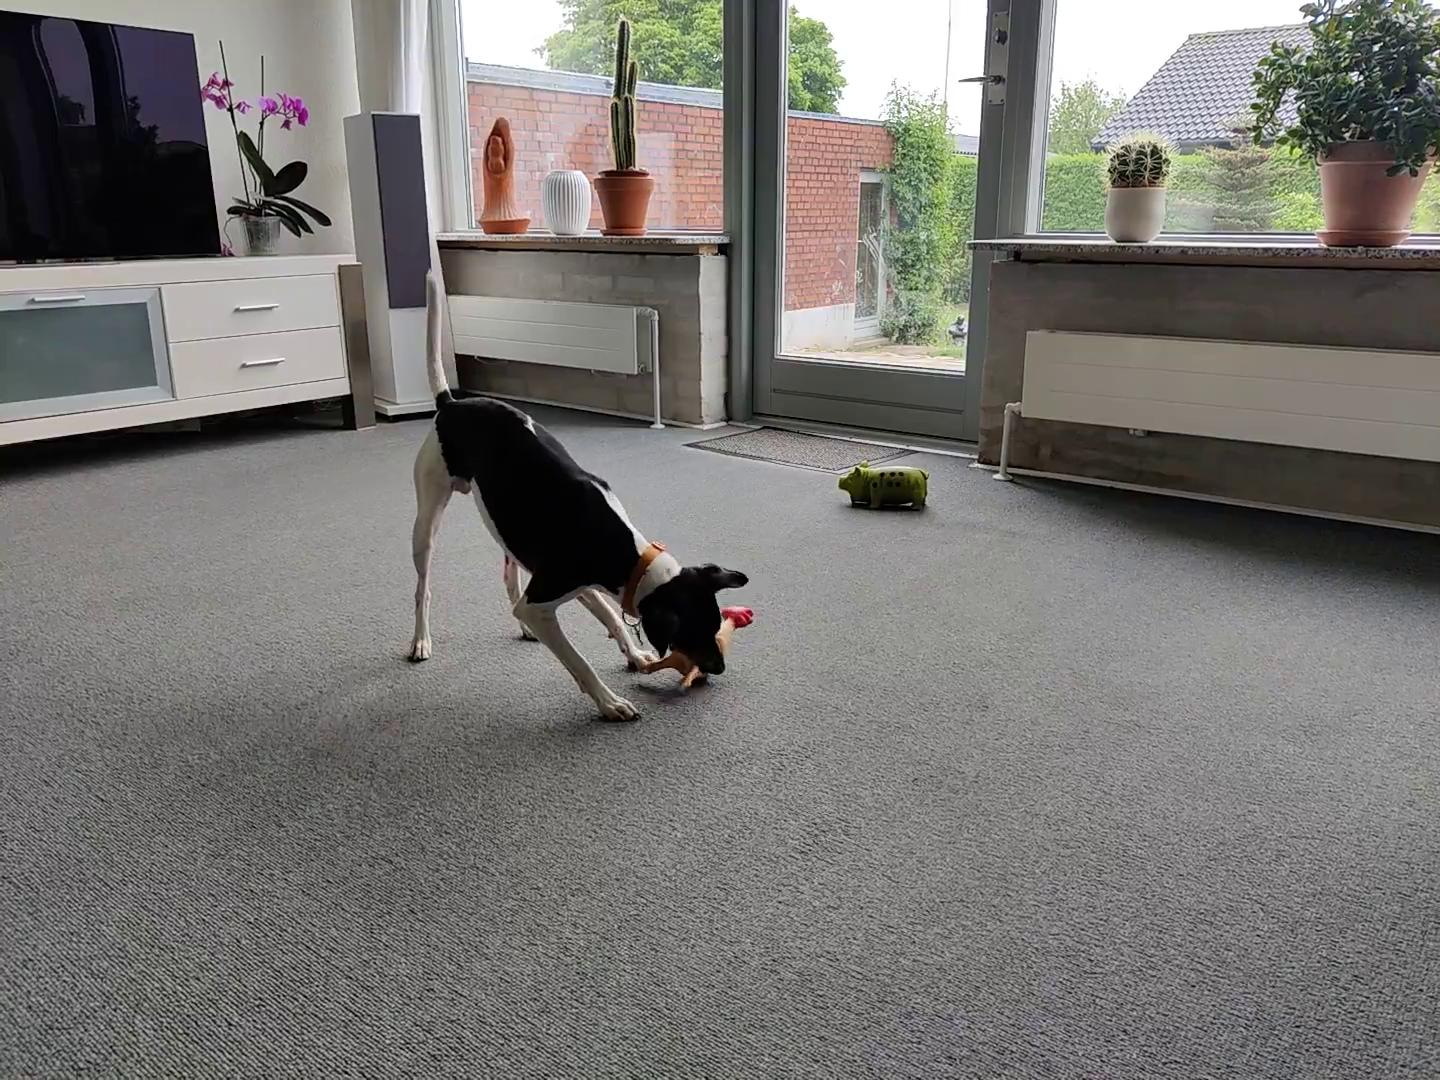Dog: (401, 269, 747, 725)
